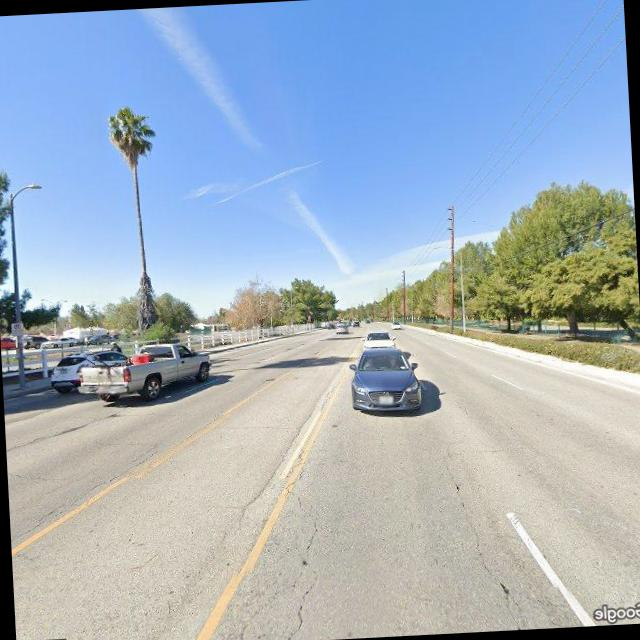pothole: (10, 446, 166, 550), (440, 438, 520, 628), (234, 398, 324, 516), (286, 422, 335, 629)
